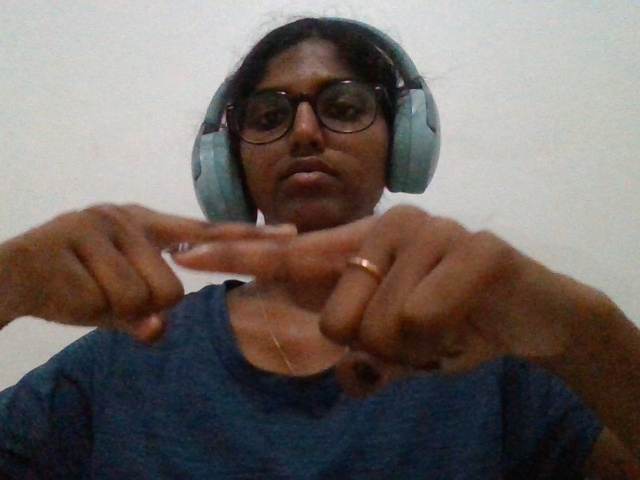Sign: (12, 154, 630, 455)
